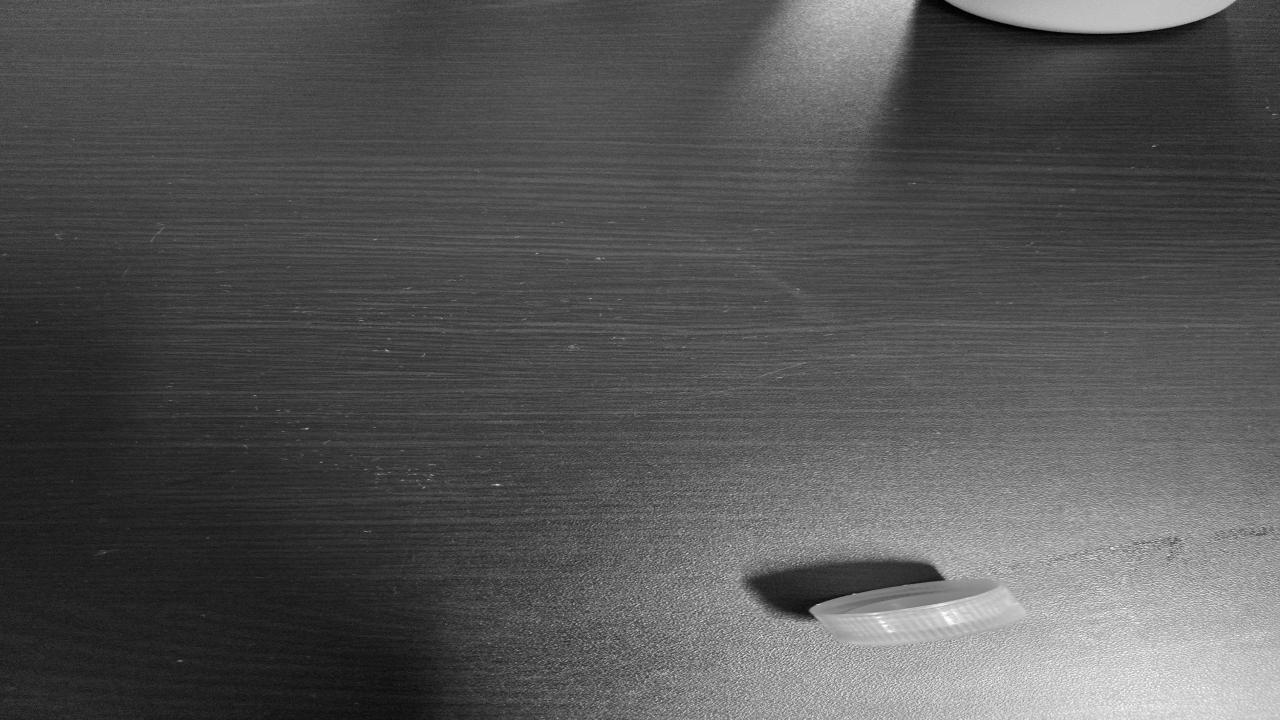bottle_cap: (826, 578, 1021, 646)
